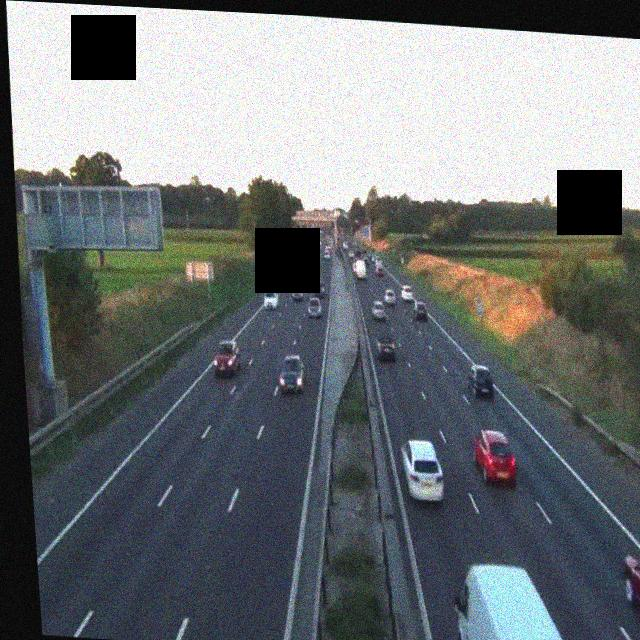car: (451, 560, 586, 640), (399, 438, 445, 502), (471, 429, 518, 486), (621, 550, 640, 640), (277, 353, 306, 395), (211, 338, 241, 378), (465, 364, 497, 400), (375, 333, 397, 362), (262, 287, 279, 309), (371, 299, 387, 320), (412, 300, 427, 321), (308, 293, 322, 314), (400, 284, 415, 303), (291, 283, 304, 301), (383, 288, 396, 305), (312, 279, 325, 296), (284, 268, 296, 283), (300, 248, 309, 261), (374, 262, 383, 274), (374, 256, 382, 268), (324, 249, 330, 261)
truck: (353, 258, 366, 280)
